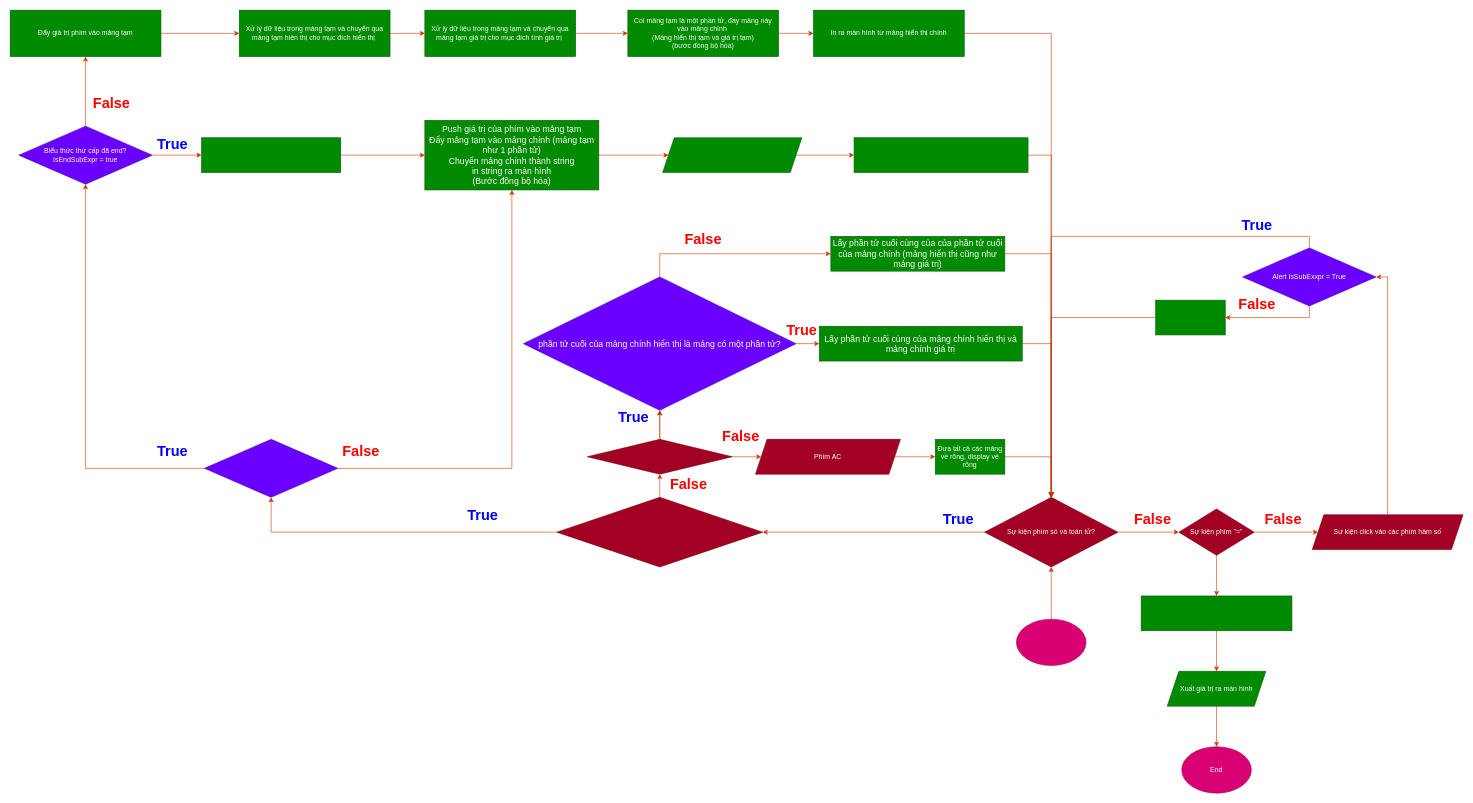
The diagram is 1473 pixels wide and 803 high, and some of its shapes have lost their labels. The shapes that lost their labels are listed below. From the top down, each one's centre as x and y in pixels, then its label:
[271,155]: Chuyển Alert biểu thức thứ cấp về False IsSubExpr = False
[732,155]: In mảng để hiển thị ra màn hình
[940,155]: Đưa mảng tạm về mảng rỗng
[1190,317]: Chuyển Alert = True
[271,468]: Alert biểu thức thứ cấp? IsSubExpr = true ?
[659,456]: Sự kiện phím DEL
[659,532]: Sự kiện phím giá trị: number, "+", "-", "*", "/", "(", ")", "."
[1216,613]: Sử dụng hàm eval cho mảng lưu giá trị Lưu phép toán vào biến nhớ
[1051,642]: Begin
